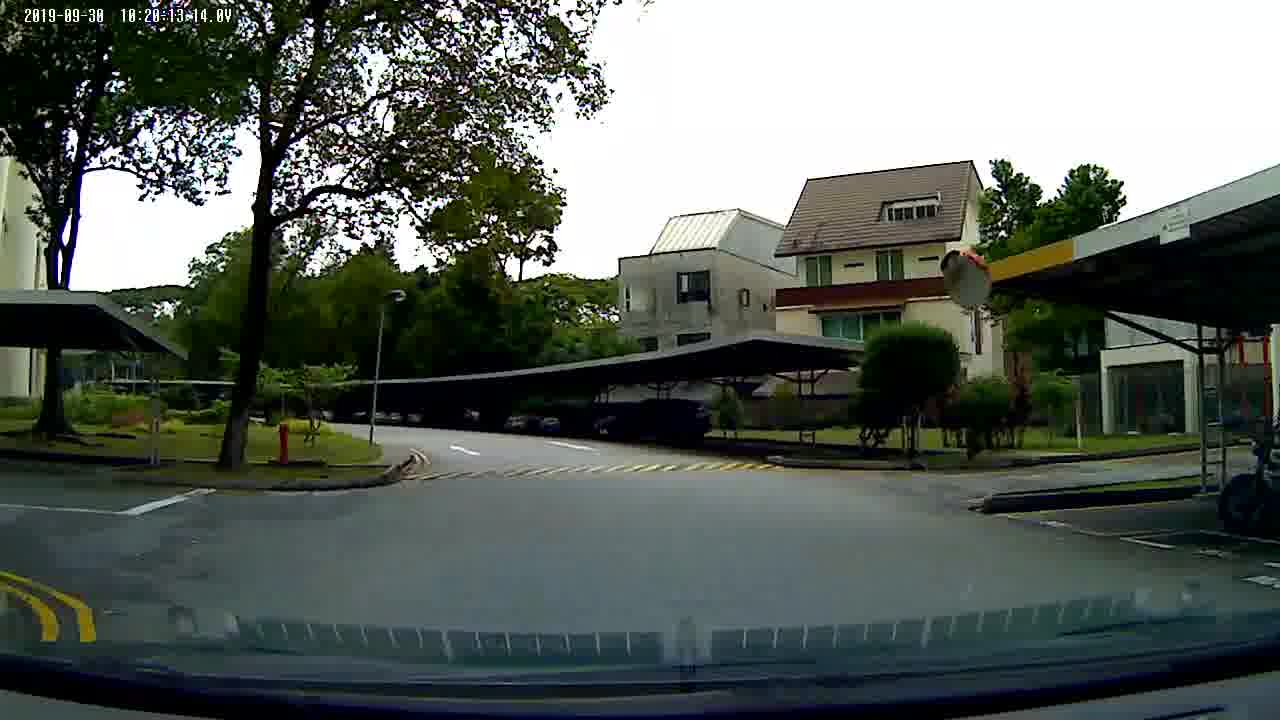car: (590, 395, 717, 446)
